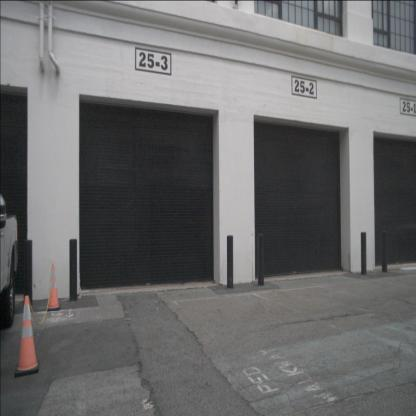movable_object-trafficcone: (14, 294, 39, 378), (46, 263, 61, 312)
vehicle-truck: (0, 191, 20, 328)
